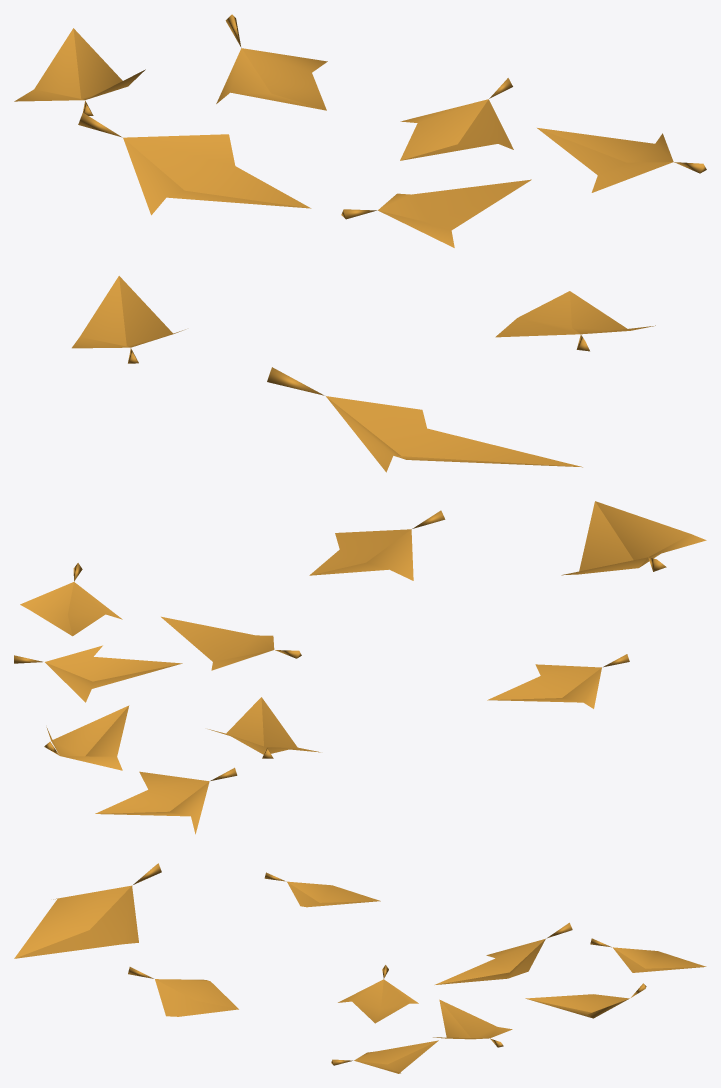
Rendered from leaves_2.glb.
3 renders of one model, top to bottom at view 1: azimuth 30°, elevation 25°; view 2: azimuth 150°, elevation 25°; view 3: azimuth 270°, elevation 25°, orthographic. The views are drawn at different scales.
Parts seen in each view (by area): view 1: leaves_2; view 2: leaves_2; view 3: leaves_2.
Part boxes in pixels (x1,y1,x2,y2): leaves_2: (14, 14, 706, 472); leaves_2: (14, 501, 706, 834); leaves_2: (14, 863, 706, 1073).
Bounding box in the file's own units: 1.33 × 0.1594 × 2.
